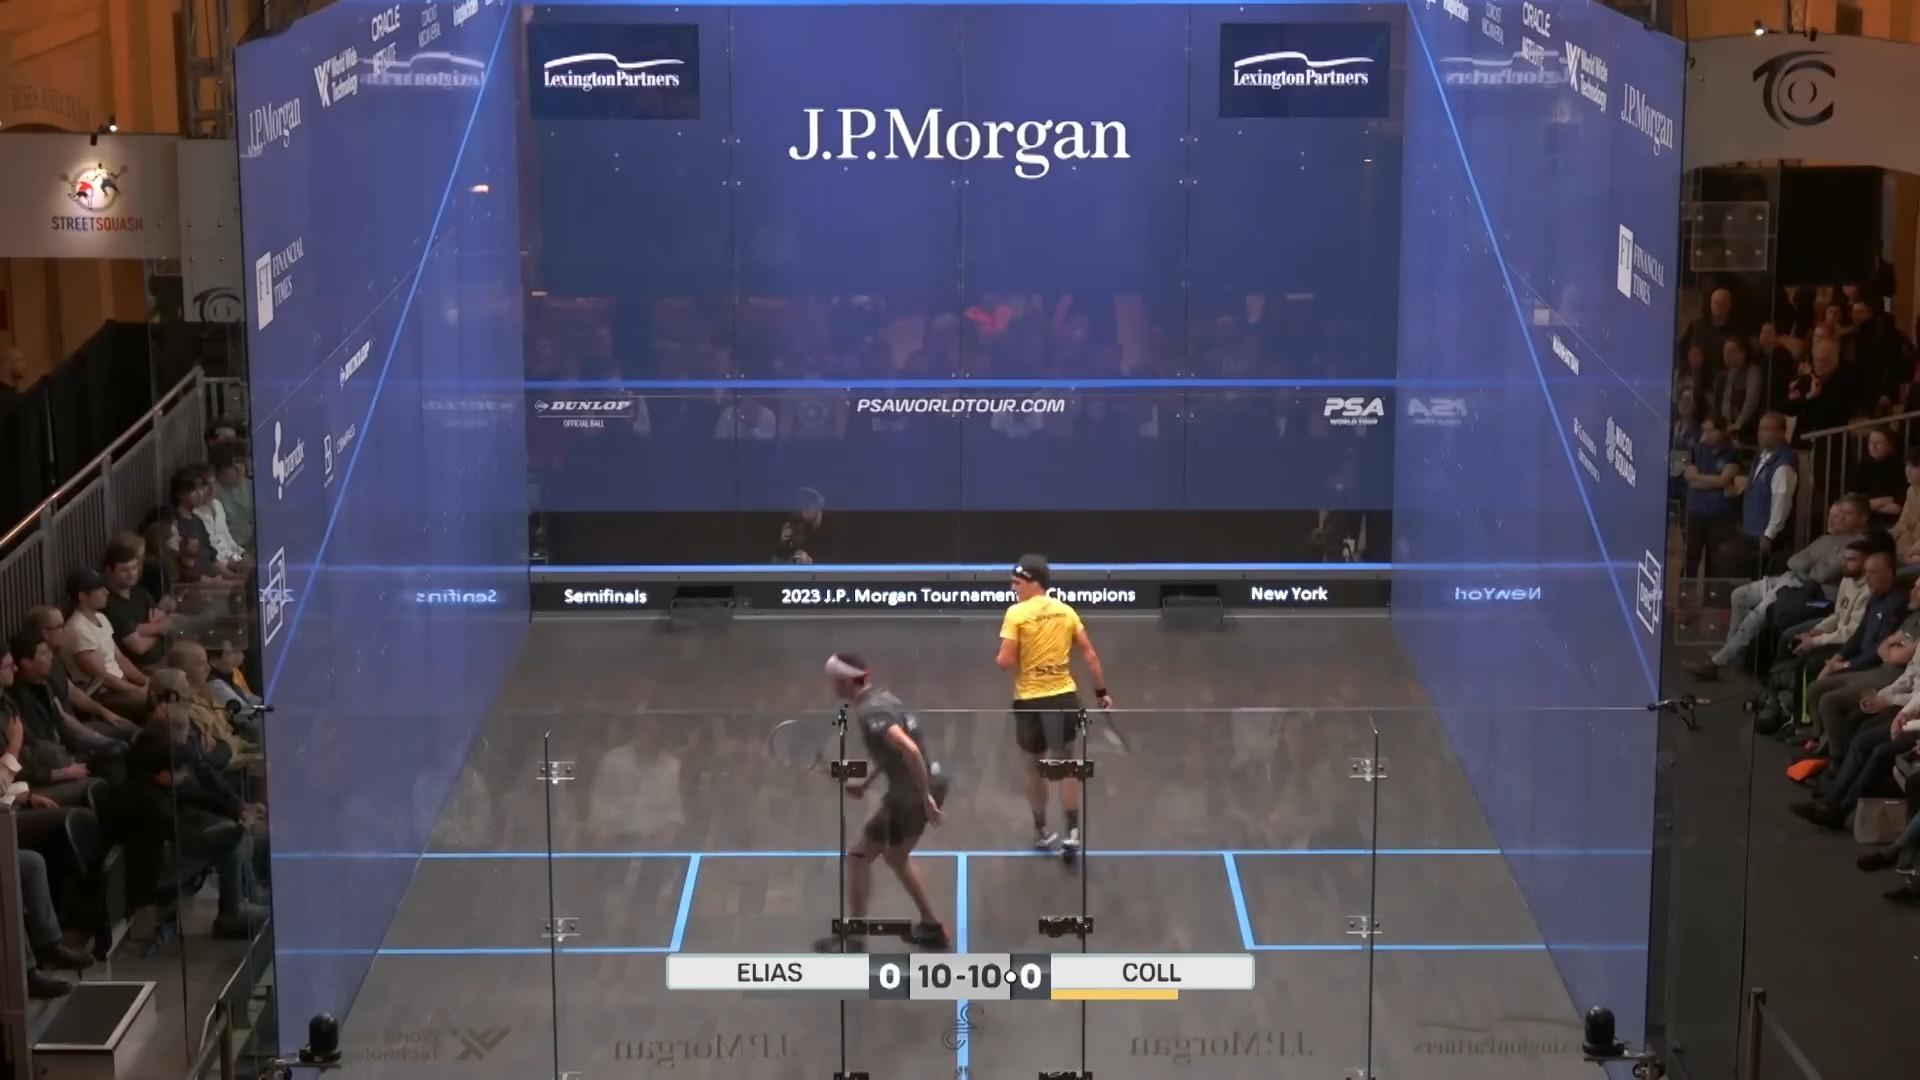Racket: (761, 712, 844, 787)
